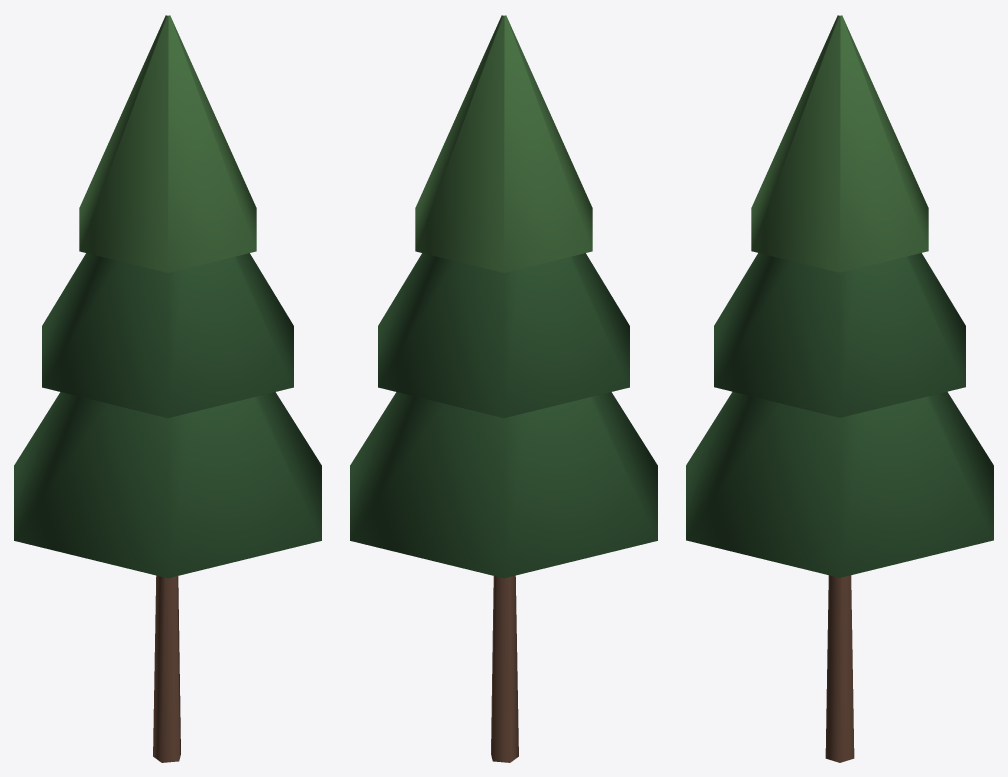
File: pine_dalat_3leaf_young_lod0.glb
3 views of the same model, side by side, from view 1: azimuth 30°, elevation 25°; view 2: azimuth 150°, elevation 25°; view 3: azimuth 270°, elevation 25° (orthographic).
Parts seen in each view (by area): view 1: tier_1, tier_2, tier_3, trunk; view 2: tier_1, tier_2, tier_3, trunk; view 3: tier_1, tier_2, tier_3, trunk.
Boxes of the visible parts, x1=… form: tier_1: x1=14, y1=392, x2=321, y2=578; tier_2: x1=42, y1=253, x2=293, y2=417; tier_3: x1=79, y1=15, x2=256, y2=272; trunk: x1=153, y1=575, x2=180, y2=762; tier_1: x1=350, y1=392, x2=657, y2=578; tier_2: x1=378, y1=253, x2=629, y2=417; tier_3: x1=415, y1=15, x2=592, y2=272; trunk: x1=491, y1=575, x2=518, y2=762; tier_1: x1=686, y1=391, x2=993, y2=577; tier_2: x1=714, y1=253, x2=965, y2=417; tier_3: x1=751, y1=15, x2=928, y2=272; trunk: x1=825, y1=575, x2=854, y2=762.
Bounding box in the file's own units: 3.3 × 7.6 × 2.86.
